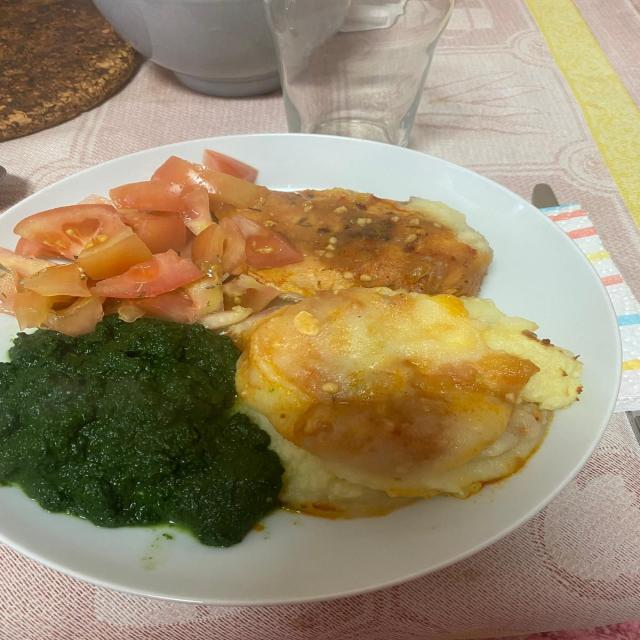chicken: (210, 180, 492, 296)
mashed potatoes: (229, 289, 582, 518)
plate: (0, 134, 620, 606)
tomato: (0, 150, 301, 336)
vegetables: (0, 316, 283, 546)
water cup: (265, 0, 454, 146)
